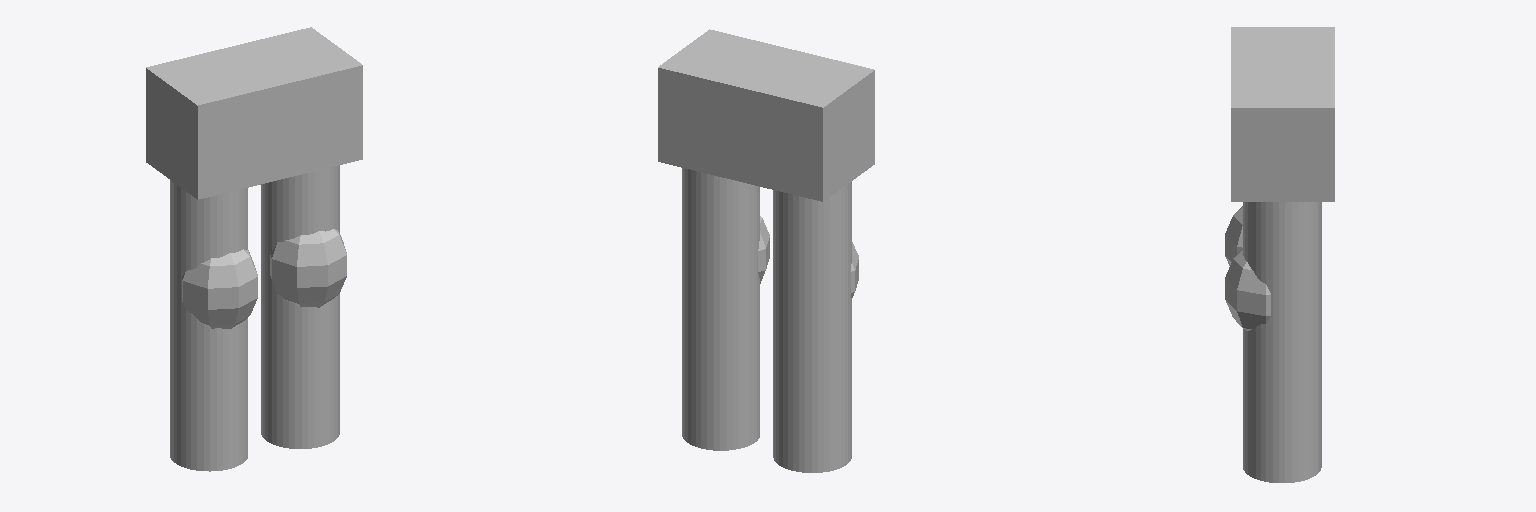
File: legging.obj
The picture shows the model from 3 angles: view 1: azimuth 30°, elevation 25°; view 2: azimuth 150°, elevation 25°; view 3: azimuth 270°, elevation 25°; orthographic projection.
Visible parts, largest first — view 1: Cylinder_Cylinder.001; view 2: Cylinder_Cylinder.001; view 3: Cylinder_Cylinder.001.
Boxes of the visible parts, <box> form: Cylinder_Cylinder.001: <box>146,27,362,471</box>; Cylinder_Cylinder.001: <box>658,29,874,472</box>; Cylinder_Cylinder.001: <box>1225,27,1334,482</box>.
Size of the model in its own units: 1.82 by 3.96 by 1.05.